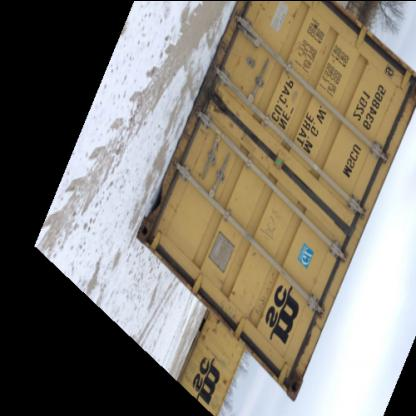Damage: (254, 259, 276, 323), (203, 86, 243, 121), (262, 201, 286, 243), (282, 362, 304, 397)
